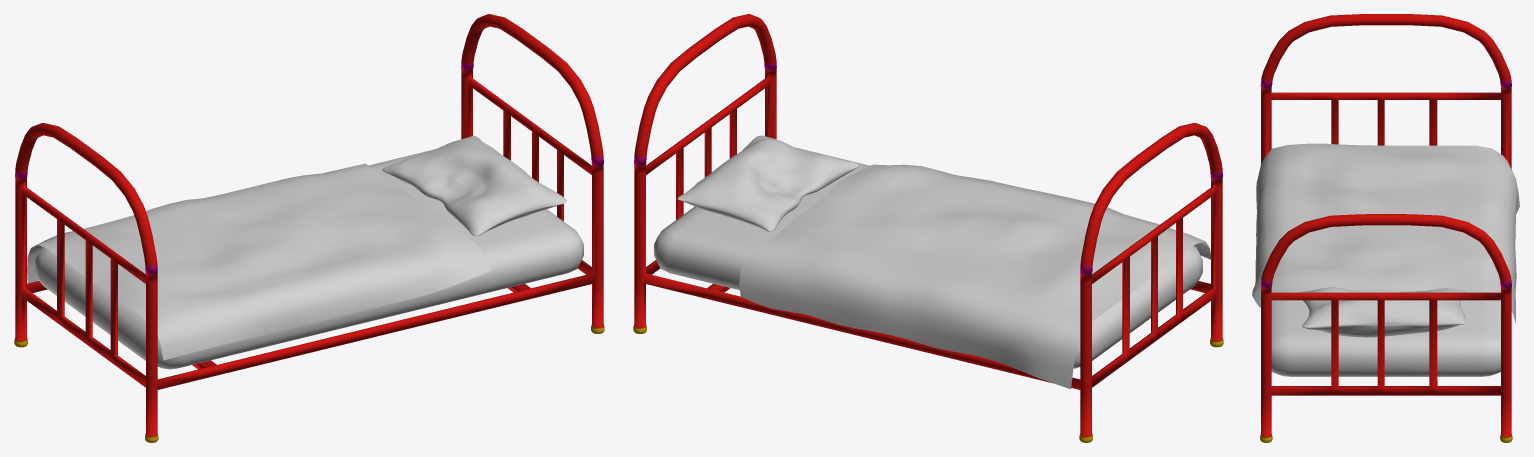
File: letto.obj
3 renders of one model, left to right at view 1: azimuth 30°, elevation 25°; view 2: azimuth 150°, elevation 25°; view 3: azimuth 270°, elevation 25°, orthographic. The views are drawn at different scales.
Parts seen in each view (by area): view 1: Bed; view 2: Bed; view 3: Bed.
Boxes of the visible parts, x1,y1,x2,y2 form: Bed: (14, 14, 604, 442); Bed: (633, 14, 1223, 442); Bed: (1252, 14, 1519, 442).
Bounding box in the file's own units: 2.22 × 1.14 × 1.22.
